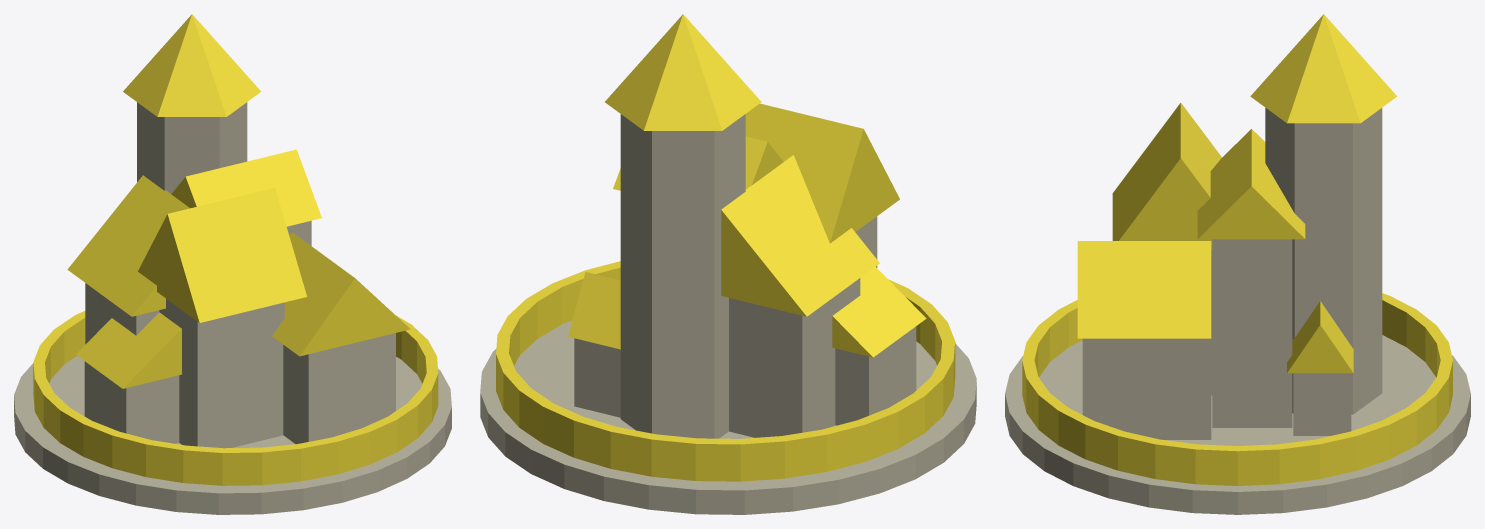
File: yellowCity.fbx
3 views of the same model, side by side, from view 1: azimuth 30°, elevation 25°; view 2: azimuth 150°, elevation 25°; view 3: azimuth 270°, elevation 25° (orthographic). The views are drawn at different scales.
Visible parts, largest first — view 1: Cylinder.063; view 2: Cylinder.063; view 3: Cylinder.063.
Part boxes in pixels (left/top/right/bottom): Cylinder.063: left=14, top=14, right=451, bottom=514; Cylinder.063: left=480, top=14, right=976, bottom=514; Cylinder.063: left=1005, top=14, right=1470, bottom=514.
Bounding box in the file's own units: 45.34 × 43.2 × 45.34.
